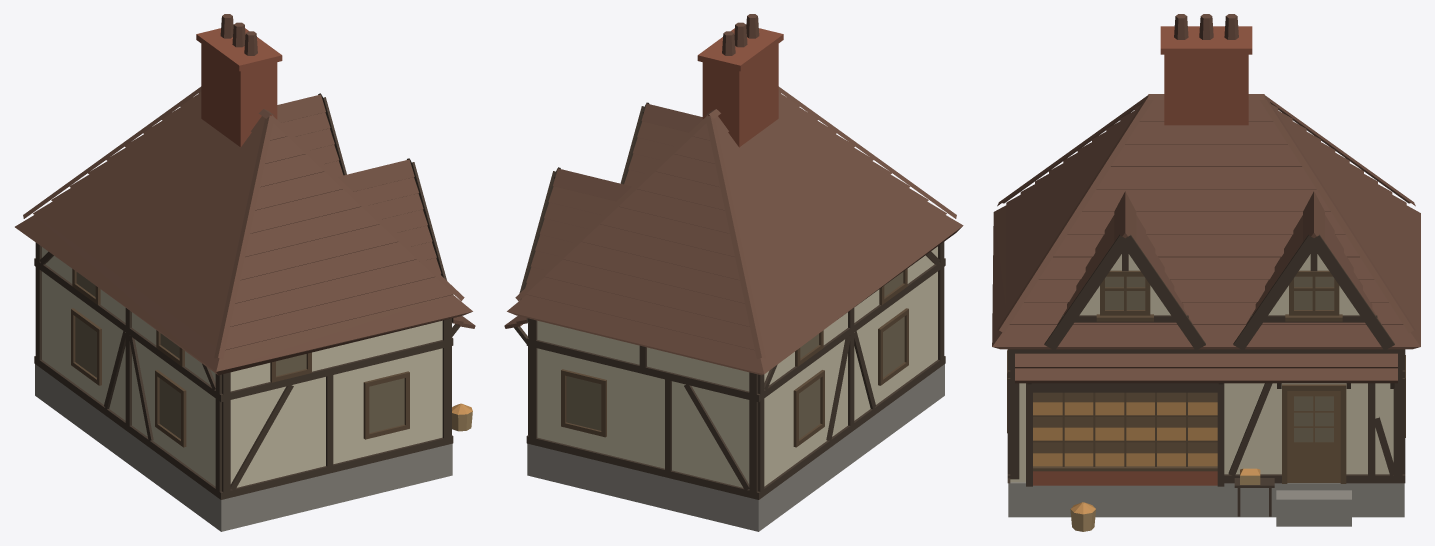
The model's file is bakery_shop_b.glb.
3 views of the same model, side by side, from view 1: azimuth 30°, elevation 25°; view 2: azimuth 150°, elevation 25°; view 3: azimuth 270°, elevation 25° (orthographic). The views are drawn at different scales.
Visible parts, largest first — view 1: bakery_shop_b_lod0; view 2: bakery_shop_b_lod0; view 3: bakery_shop_b_lod0.
Boxes of the visible parts, x1,y1,x2,y2 form: bakery_shop_b_lod0: [15, 14, 475, 531]; bakery_shop_b_lod0: [504, 14, 963, 531]; bakery_shop_b_lod0: [992, 14, 1420, 531].
Size of what is drawn, in the model's own units: 6.56 by 8.64 by 7.66.
